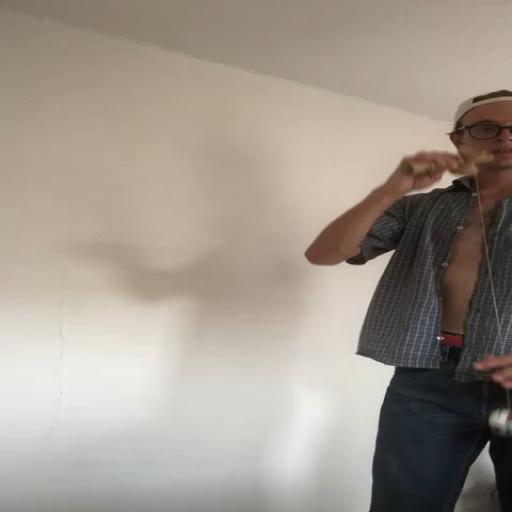kendama_ball: (489, 408, 512, 430)
